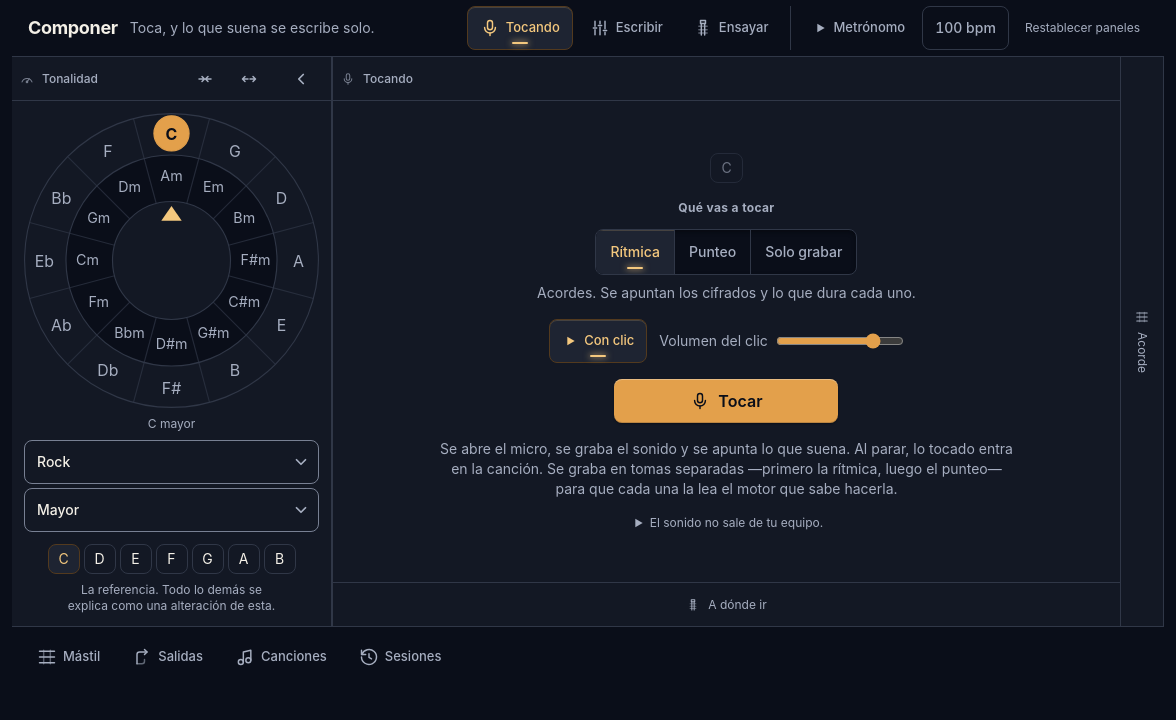
Test: El espacio de ensayar › trae la cancion para tocarla contra el metronomo, con su nombre
Click the button "Ensayar".
click(731, 28)  # box [680,6,782,50]
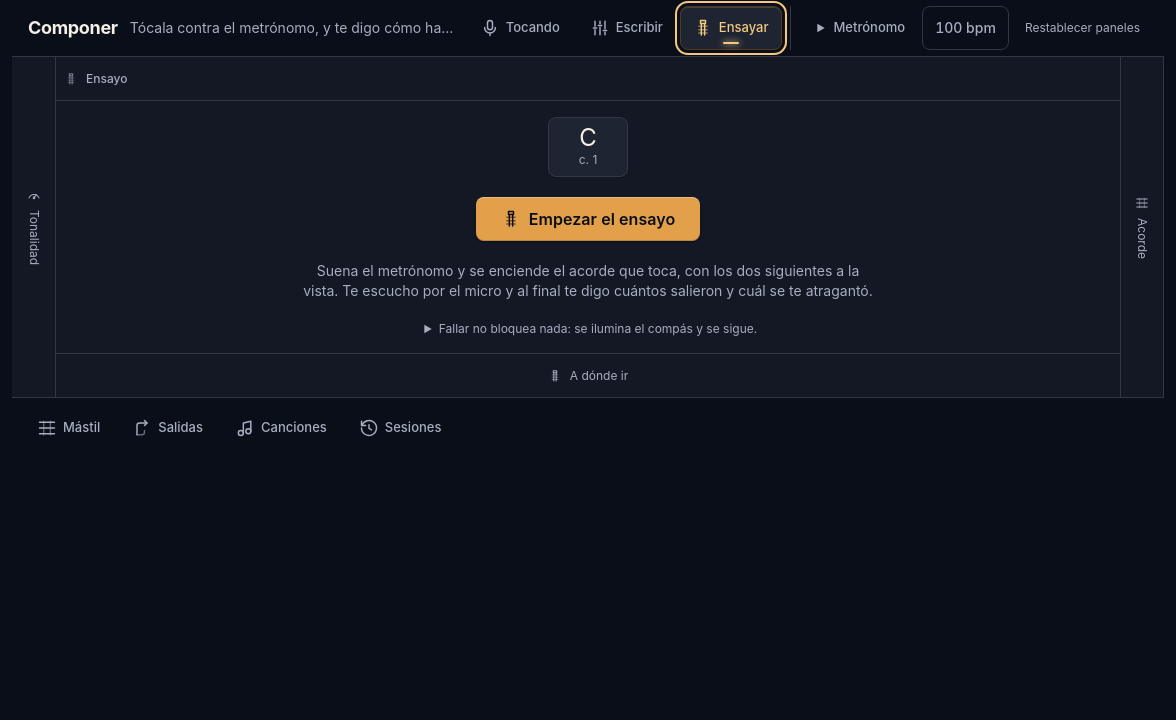
Result: the element labelled "Ensayo" is shown at [56,57,1120,353]
Result: the text "Tócala contra el metrónomo, y te digo cómo ha ido." is shown at [130,18,455,38]
